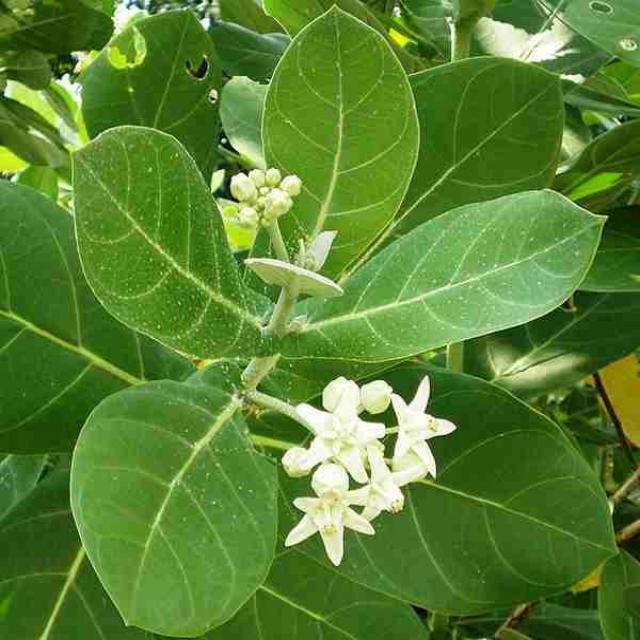Poisonous-Calatropis: (70, 1, 614, 360), (123, 158, 495, 584)
